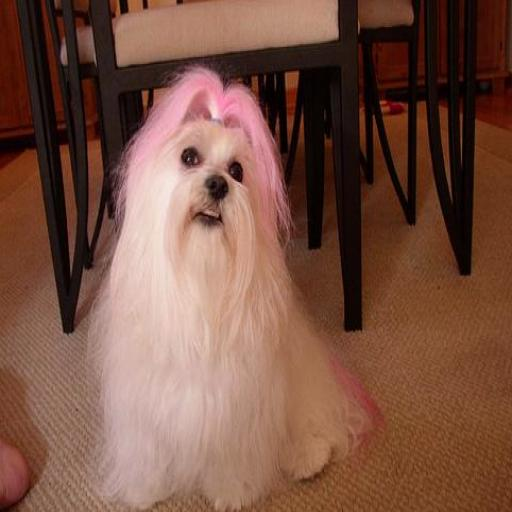dog_face: (122, 72, 303, 289)
